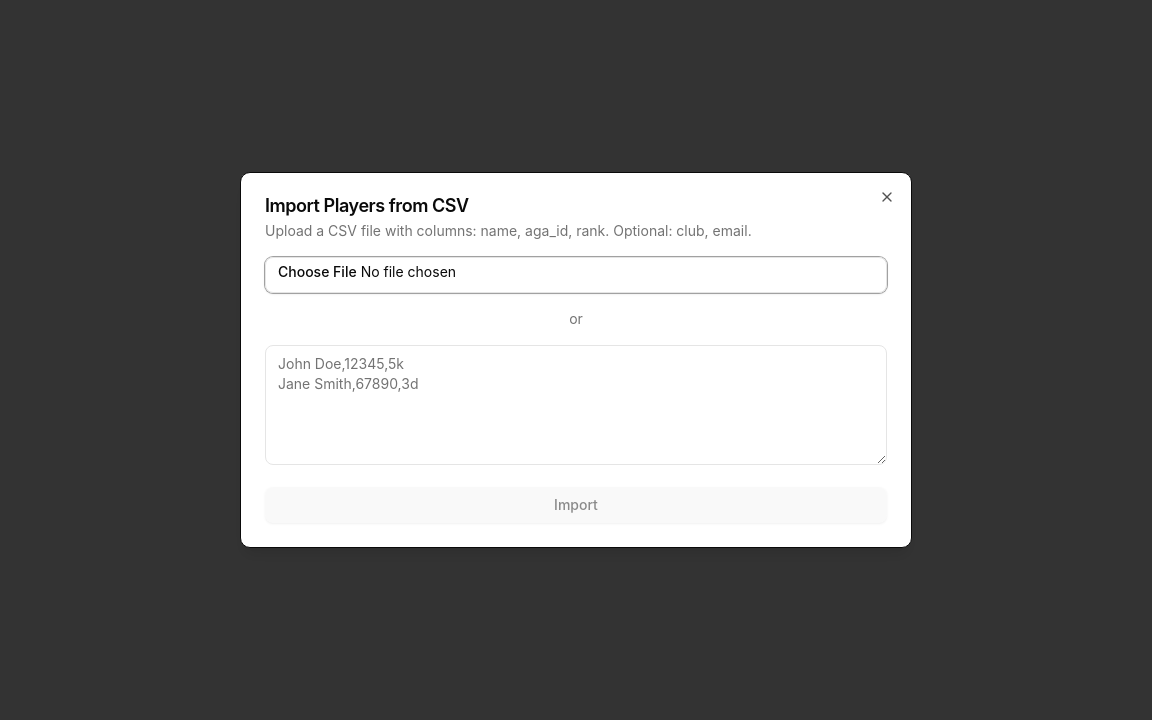
Test: BulkRegisterDialog › shows validation errors when pasting invalid CSV
Type "John,12345,invalid" into the text box with test id "csv-paste-input" at {"x": 576, "y": 405}, box [265, 345, 887, 465]
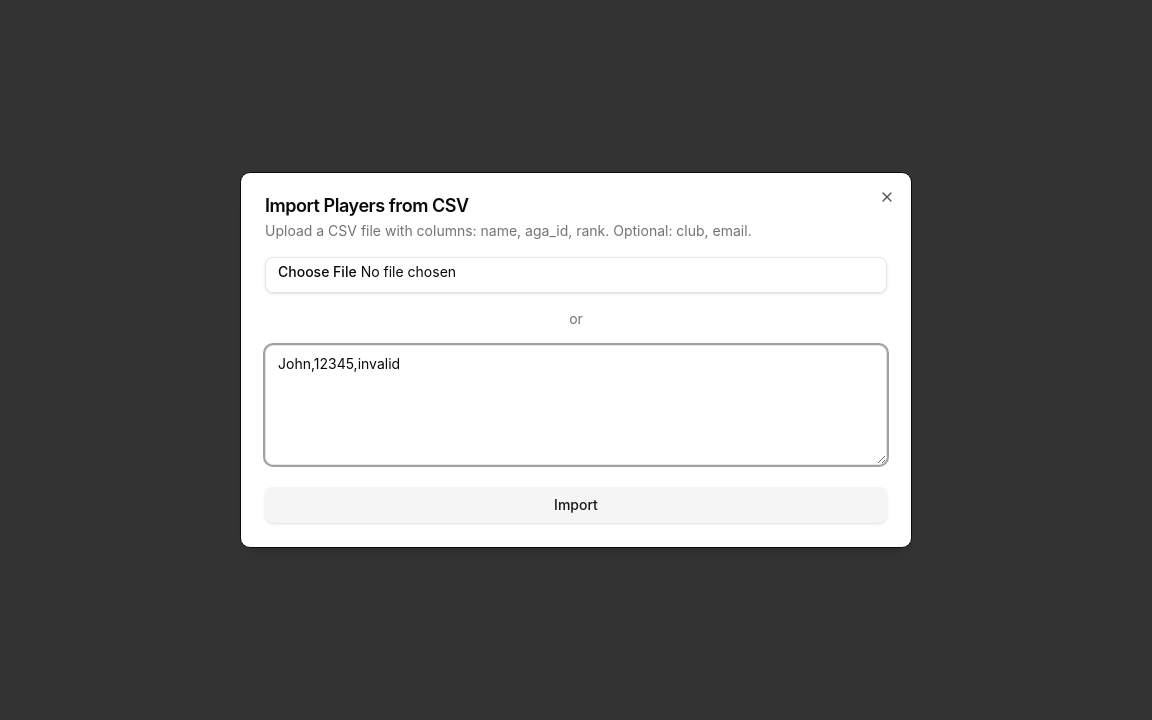
Click the button "Import" at {"x": 576, "y": 505}, box [265, 487, 887, 523]
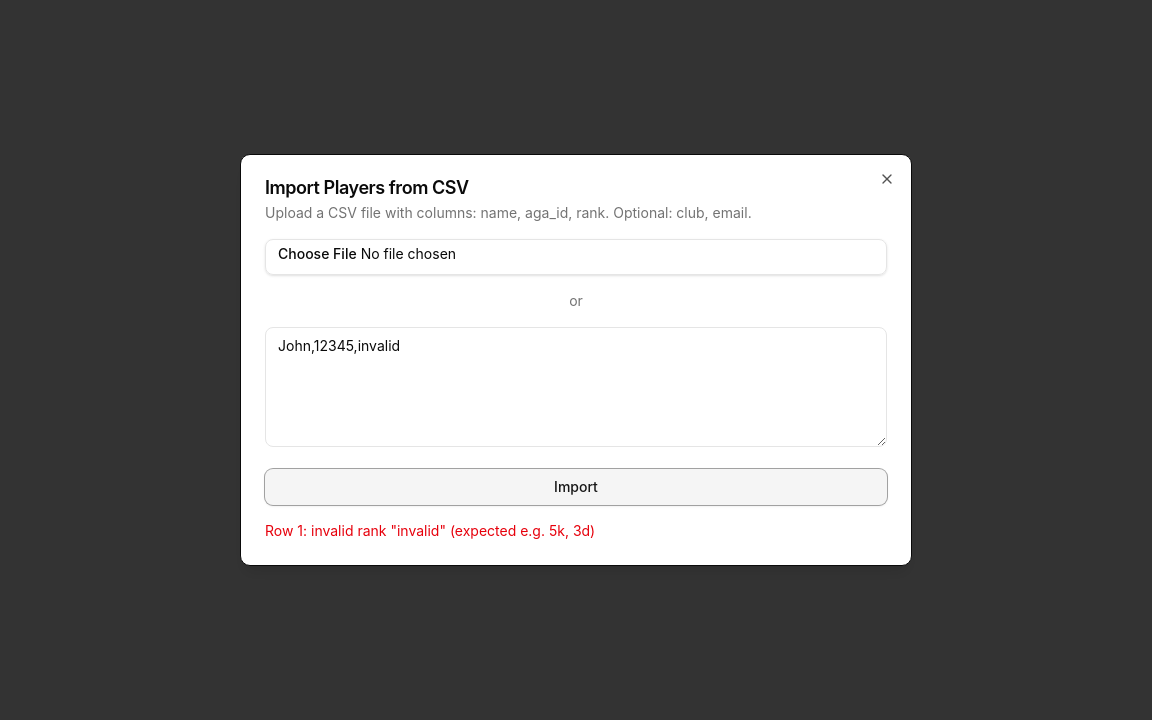
expect the text "Row 1: invalid rank \"invalid\" (expected e.g. 5k, 3d)" is shown: met, box [265, 522, 595, 539]
